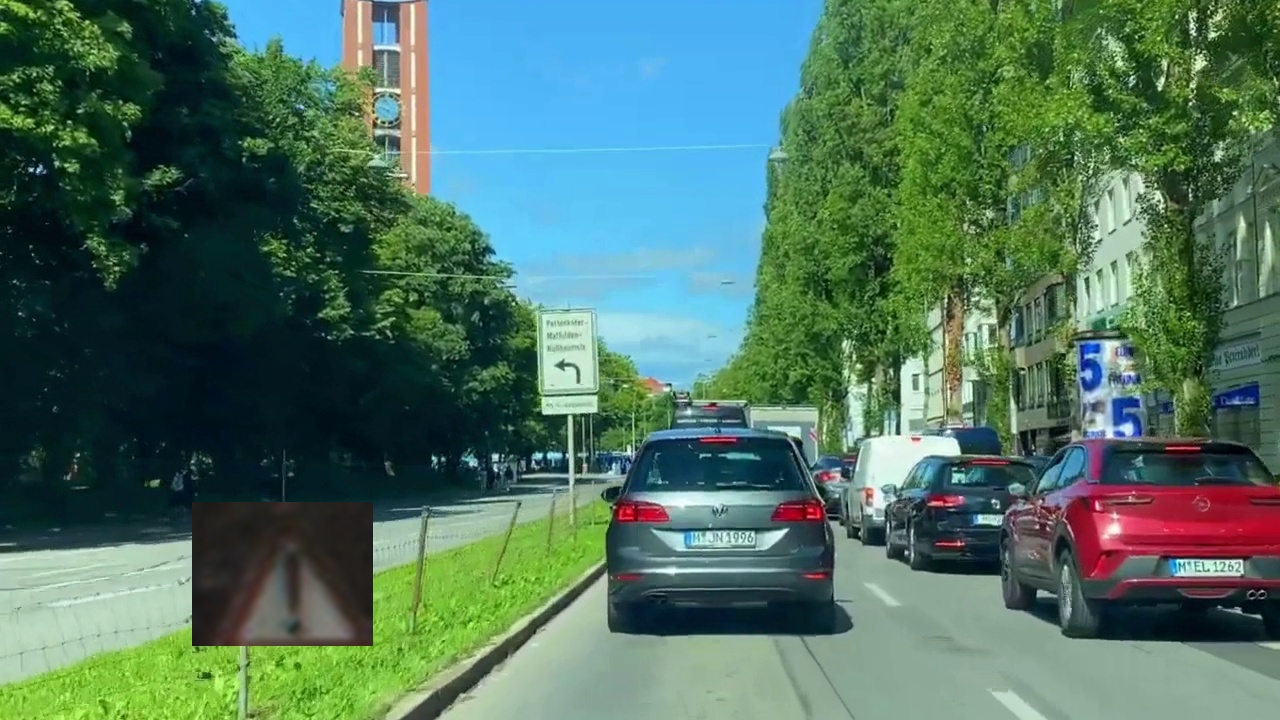Caution: (192, 502, 373, 646)
